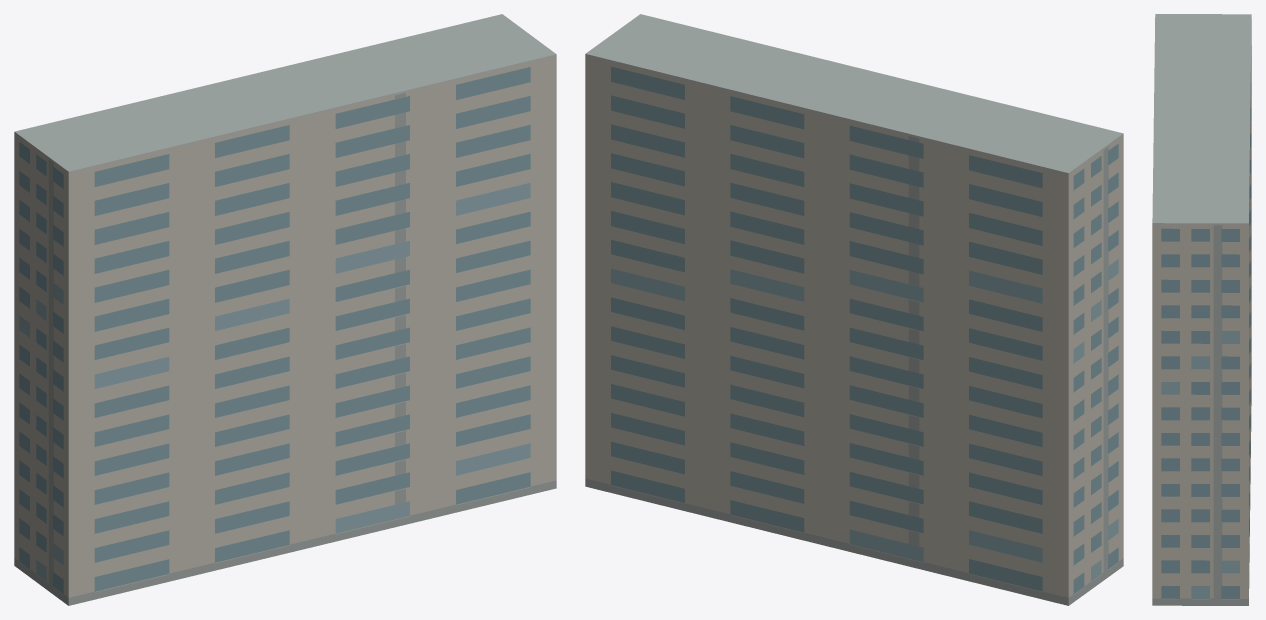
Rendered from residential-46ac5d9f-a451-4ab0-8f4d-7a2b122143b2.glb.
The picture shows the model from 3 angles, left to right: view 1: azimuth 30°, elevation 25°; view 2: azimuth 150°, elevation 25°; view 3: azimuth 270°, elevation 25°; orthographic projection. The views are drawn at different scales.
Parts seen in each view (by area): view 1: residential-46ac5d9f-a451-4ab0-8f4d-7a2b122143b2.tmp; view 2: residential-46ac5d9f-a451-4ab0-8f4d-7a2b122143b2.tmp; view 3: residential-46ac5d9f-a451-4ab0-8f4d-7a2b122143b2.tmp.
Part boxes in pixels (x1,y1,x2,y2): residential-46ac5d9f-a451-4ab0-8f4d-7a2b122143b2.tmp: (14,14,556,605); residential-46ac5d9f-a451-4ab0-8f4d-7a2b122143b2.tmp: (585,14,1123,605); residential-46ac5d9f-a451-4ab0-8f4d-7a2b122143b2.tmp: (1152,14,1251,605).
Bounding box in the file's own units: 53.7 × 45.75 × 10.75.
